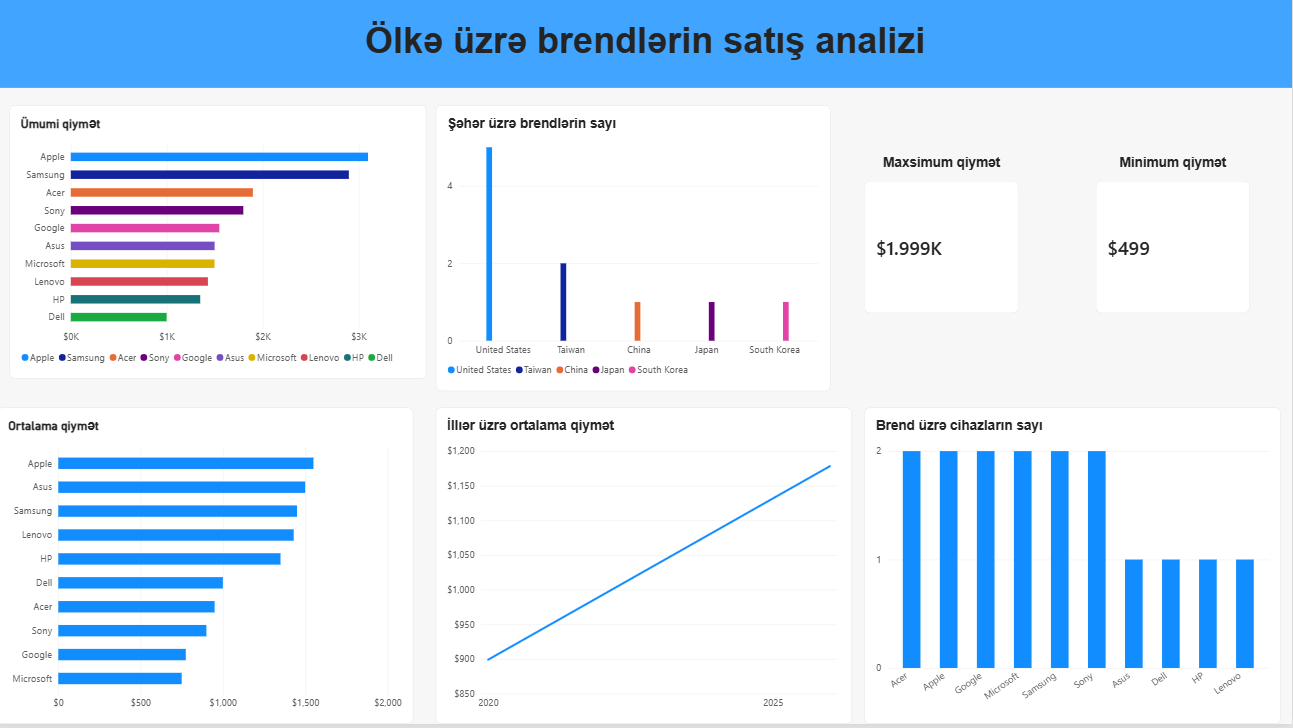

The dashboard page shown, as its layout file describes it:
{"tool":"powerbi","page":{"name":"Page 1","canvas":[1920,1080],"ordinal":0},"visuals":[{"type":"barChart","title":"Ümumi qiymət","fields":{"Y":["Sum(Table1.Price (USD))"],"Category":["Table1.Brand"],"Series":["Table1.Brand"]},"box":[18.5,162.6,617.5,405.5],"z":0},{"type":"clusteredColumnChart","title":"Brend üzrə cihazların sayı","fields":{"Category":["Table1.Brand"],"Y":["Count(Table1.Device)"]},"box":[1284.9,611.7,617.1,468.7],"z":1000},{"type":"columnChart","title":"Ortalama qiymət","fields":{"Category":["Table1.Brand"],"Y":["Avg(Table1.Price (USD))"],"Series":["Table1.Brand"]},"box":[0,611.7,617,469],"z":2000},{"type":"lineChart","title":"İllıər üzrə ortalama qiymət","fields":{"Category":["Table1.Date of Release.Variation.Date Hierarchy.Year"],"Y":["Avg(Table1.Price (USD))"]},"box":[649.7,611.7,617.1,468.7],"z":3000},{"type":"clusteredColumnChart","title":"Şəhər üzrə brendlərin sayı","fields":{"Category":["Table1.Country of Origin"],"Y":["Count(Table1.Brand)"],"Series":["Table1.Country of Origin"]},"box":[650.4,162.6,584.6,424],"z":4000},{"type":"cardVisual","title":"Maxsimum qiymət","fields":{"Data":["Max(Table1.Price (USD))"]},"box":[1284.4,236.7,228.5,234.6],"z":5000},{"type":"cardVisual","title":"Minimum qiymət","fields":{"Data":["Min(Table1.Price (USD))"]},"box":[1626.1,236.7,228.5,234.6],"z":6000},{"type":"textbox","box":[1284.4,354,341.7,214.1],"z":7000},{"type":"textbox","box":[0,0,1920.4,137.9],"z":8000}]}

Visuals, with their boxes in screenshot pixels (x1, y1, x2, y2), scaled from the page's 1920x1080 canvas onto the 1293x728 screenshot:
"Ümumi qiymət" barChart: <bbox>12, 110, 428, 383</bbox>
"Brend üzrə cihazların sayı" clusteredColumnChart: <bbox>865, 412, 1281, 727</bbox>
"Ortalama qiymət" columnChart: <bbox>0, 412, 416, 727</bbox>
"İllıər üzrə ortalama qiymət" lineChart: <bbox>438, 412, 853, 727</bbox>
"Şəhər üzrə brendlərin sayı" clusteredColumnChart: <bbox>438, 110, 832, 395</bbox>
"Maxsimum qiymət" cardVisual: <bbox>865, 160, 1019, 318</bbox>
"Minimum qiymət" cardVisual: <bbox>1095, 160, 1249, 318</bbox>
textbox: <bbox>865, 239, 1095, 383</bbox>
textbox: <bbox>0, 0, 1292, 93</bbox>
